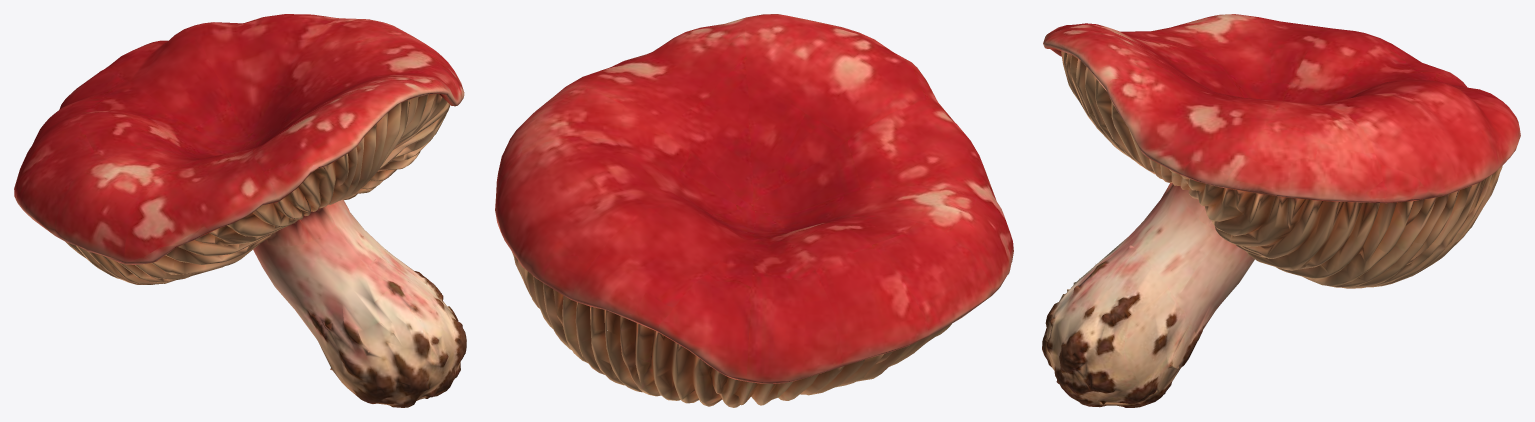
Rendered from russula.glb.
3 renders of one model, left to right at view 1: azimuth 30°, elevation 25°; view 2: azimuth 150°, elevation 25°; view 3: azimuth 270°, elevation 25°, orthographic. The views are drawn at different scales.
Parts seen in each view (by area): view 1: tripo_node_7f54b80b-f357-4e42-ac84-4a26308768ee; view 2: tripo_node_7f54b80b-f357-4e42-ac84-4a26308768ee; view 3: tripo_node_7f54b80b-f357-4e42-ac84-4a26308768ee.
Boxes of the visible parts, x1,y1,x2,y2 form: tripo_node_7f54b80b-f357-4e42-ac84-4a26308768ee: (14,14,466,407); tripo_node_7f54b80b-f357-4e42-ac84-4a26308768ee: (495,14,1013,407); tripo_node_7f54b80b-f357-4e42-ac84-4a26308768ee: (1042,14,1520,407).
Size of the model in its own units: 0.979 by 0.7513 by 0.9553.
1 material, 1 textured.
